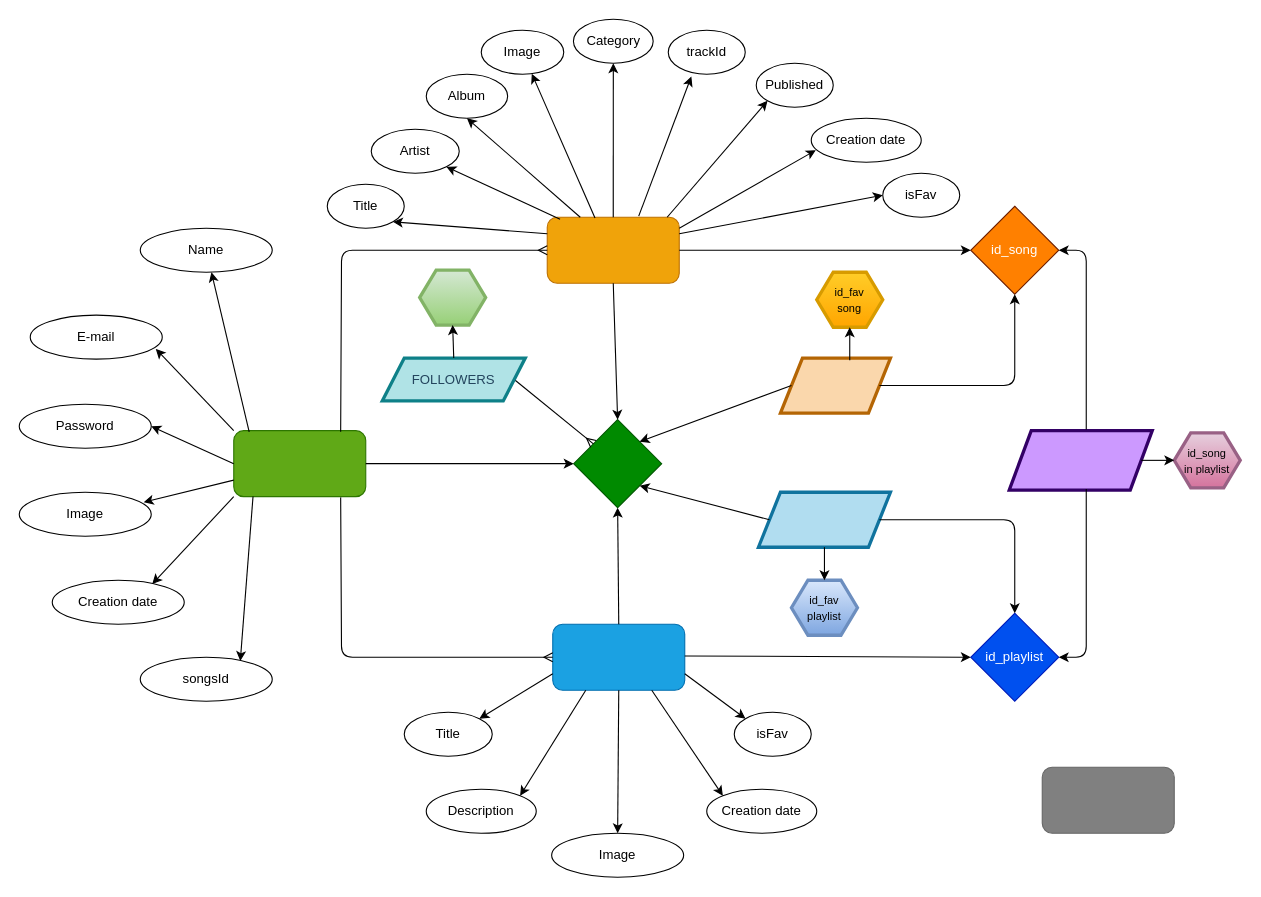
This 1261x897 diagram has some shape labels left out. The shapes that lost their labels are listed below. From the top down, each one's box as (x1, y1, x2, y2) in pixels, then its label:
(546, 216, 679, 283): SONG
(417, 268, 487, 326): id follower
(778, 356, 892, 414): FAV SONGS
(233, 430, 366, 497): USER
(573, 419, 662, 508): id_user
(1007, 428, 1153, 491): SONGS IN PLAYLIST
(756, 490, 892, 548): FAV PLAYLISTS
(552, 623, 685, 690): PLAYLISTS
(1041, 766, 1174, 833): ALBUMS
